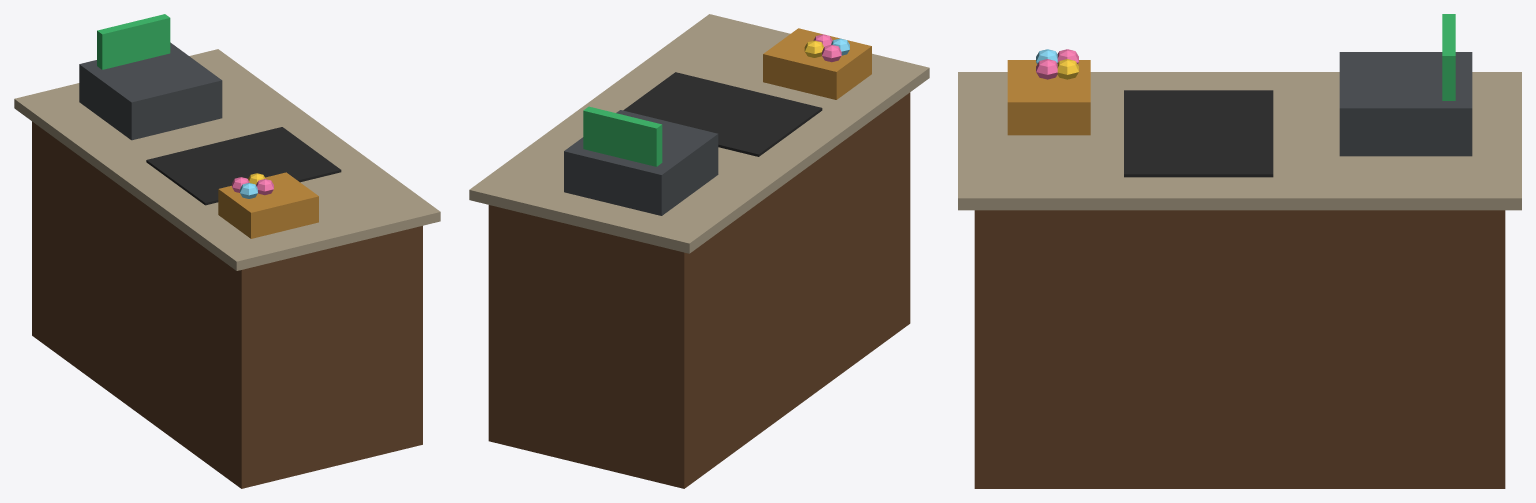
File: cassa.obj
3 views of the same model, side by side, from view 1: azimuth 30°, elevation 25°; view 2: azimuth 150°, elevation 25°; view 3: azimuth 270°, elevation 25° (orthographic). The views are drawn at different scales.
Parts seen in each view (by area): view 1: parte_00, parte_01, parte_02, parte_04, parte_05, parte_03; view 2: parte_00, parte_01, parte_02, parte_04, parte_05, parte_03; view 3: parte_00, parte_01, parte_02, parte_04, parte_05, parte_03, parte_06.
Part boxes in pixels (x1=…): parte_00: x1=32, y1=121, x2=422, y2=488; parte_01: x1=14, y1=49, x2=440, y2=270; parte_02: x1=79, y1=42, x2=222, y2=140; parte_04: x1=146, y1=127, x2=341, y2=205; parte_05: x1=218, y1=172, x2=318, y2=238; parte_03: x1=97, y1=14, x2=170, y2=69; parte_00: x1=488, y1=92, x2=910, y2=488; parte_01: x1=469, y1=14, x2=929, y2=253; parte_02: x1=564, y1=110, x2=718, y2=215; parte_04: x1=623, y1=72, x2=822, y2=156; parte_05: x1=763, y1=28, x2=871, y2=99; parte_03: x1=583, y1=106, x2=662, y2=166; parte_00: x1=974, y1=210, x2=1505, y2=488; parte_01: x1=958, y1=72, x2=1521, y2=210; parte_02: x1=1339, y1=52, x2=1472, y2=156; parte_04: x1=1124, y1=90, x2=1273, y2=177; parte_05: x1=1007, y1=60, x2=1090, y2=135; parte_03: x1=1442, y1=14, x2=1455, y2=100; parte_06: x1=1036, y1=49, x2=1078, y2=79.
Bounding box in the file's own units: 0.9 × 1.3 × 1.7.
